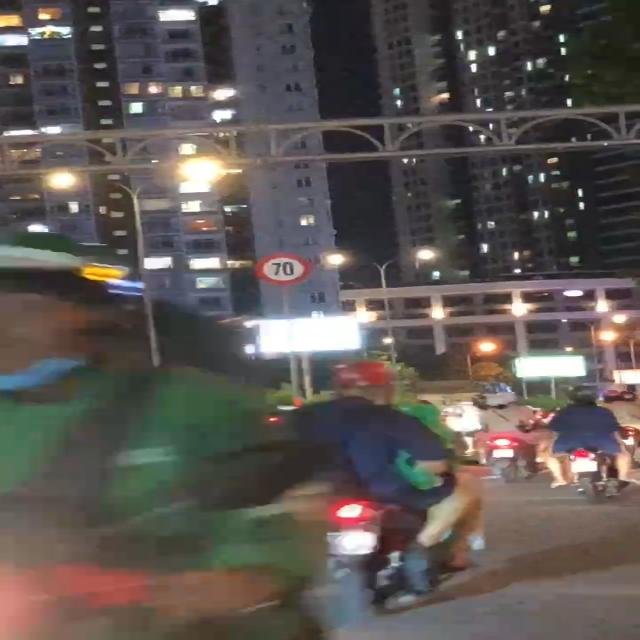Bien bao toc do toi da cho phep: (251, 251, 315, 285)
